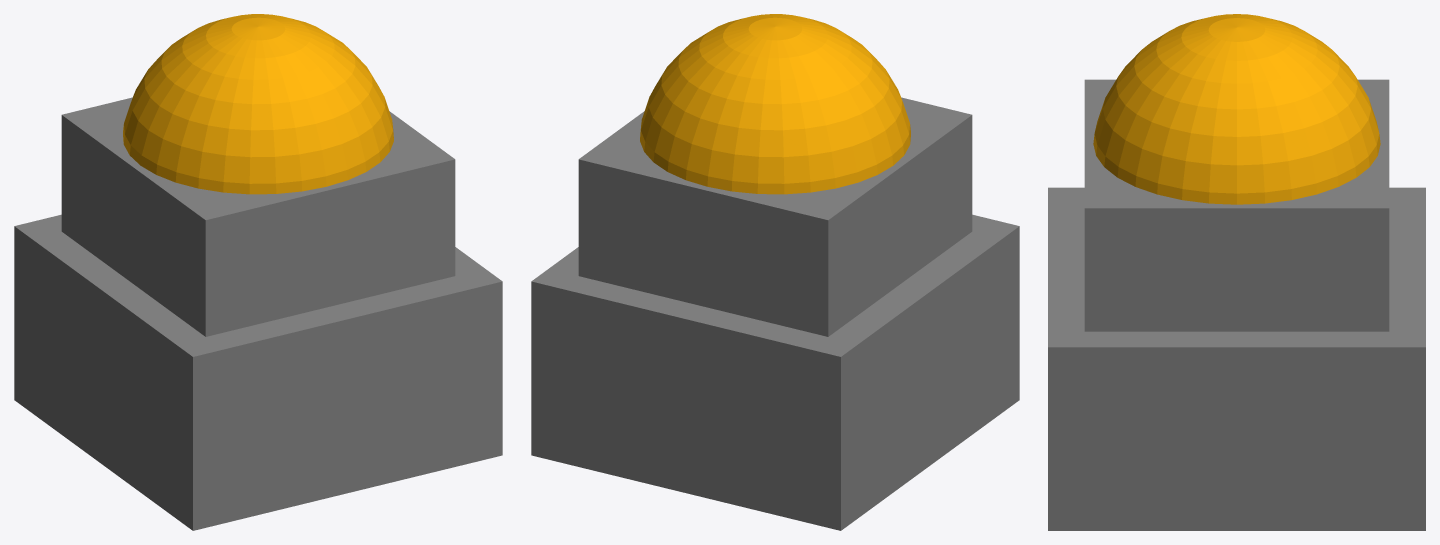
Rendered from gelber_button.glb.
3 renders of one model, left to right at view 1: azimuth 30°, elevation 25°; view 2: azimuth 150°, elevation 25°; view 3: azimuth 270°, elevation 25°, orthographic. The views are drawn at different scales.
Visible parts, largest first — view 1: Cube, Cube.001, Sphere; view 2: Cube, Cube.001, Sphere; view 3: Cube, Cube.001, Sphere.
Boxes of the visible parts, x1,y1,x2,y2 form: Cube: (14, 214, 502, 530); Cube.001: (61, 97, 455, 336); Sphere: (123, 14, 393, 194); Cube: (531, 214, 1019, 530); Cube.001: (578, 97, 972, 336); Sphere: (640, 14, 910, 194); Cube: (1048, 187, 1425, 530); Cube.001: (1084, 79, 1389, 331); Sphere: (1093, 14, 1380, 204).
Bounding box in the file's own units: 2 × 2.48 × 2.
